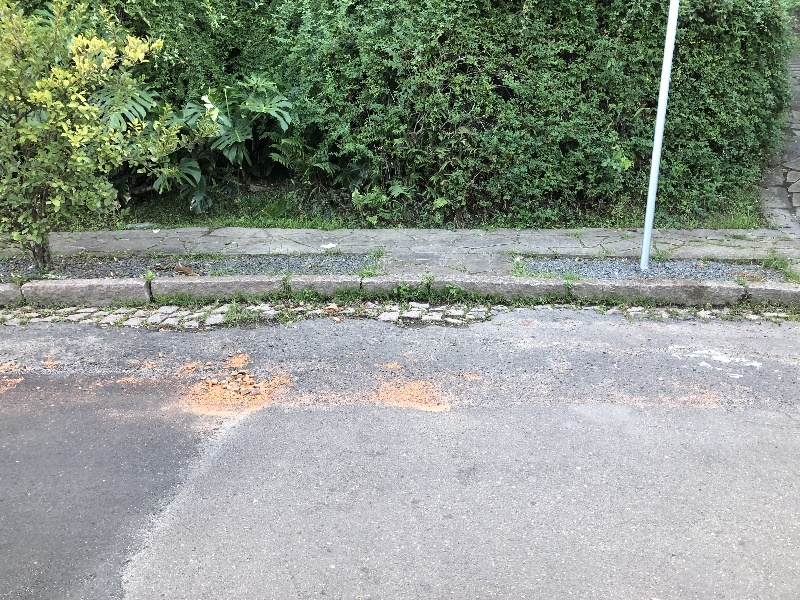v95: (5, 228, 795, 343)
